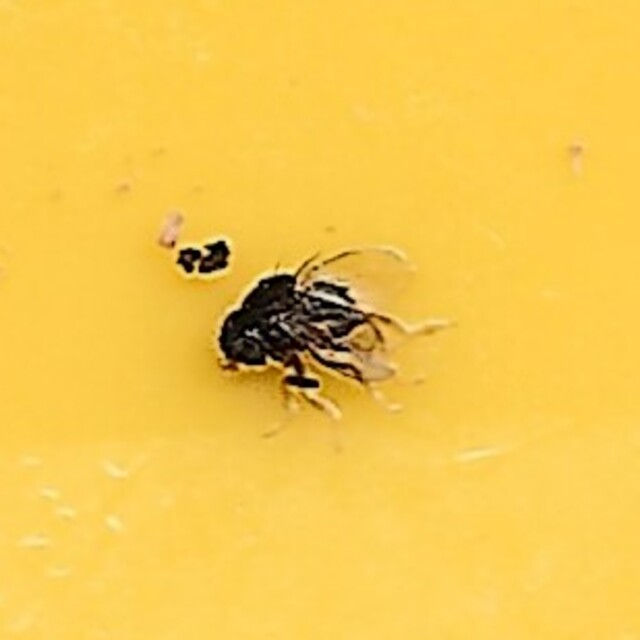Brachycera: (207, 225, 433, 415)
